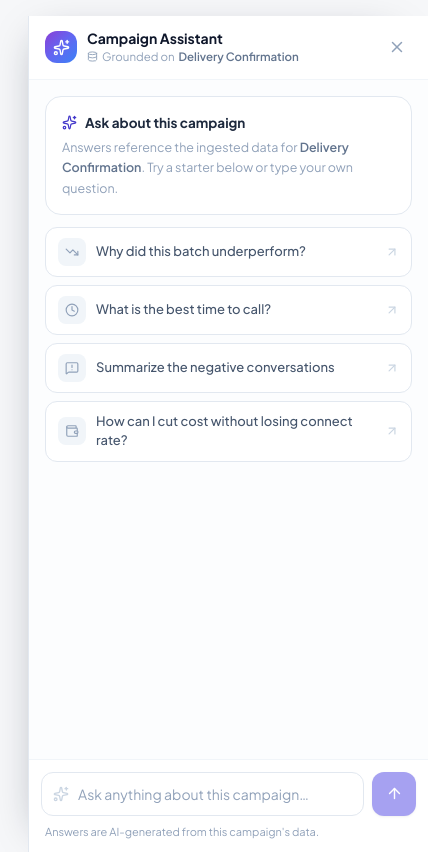
Test: ChatPanel — composer › shows an explicit error instead of a canned answer when AI is unavailable
Click the button "Why did this batch underperform?": (228, 252) [45,227,412,277]
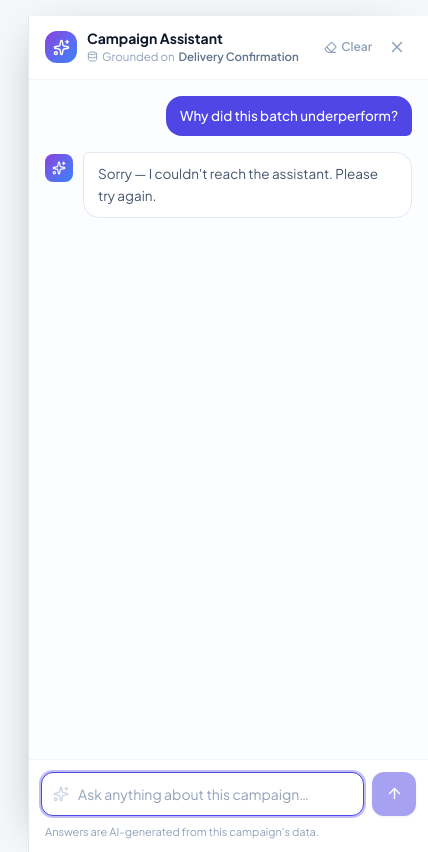
Result: the text "Sorry — I couldn't reach the assistant. Please try again." is shown at [98,163,397,207]
